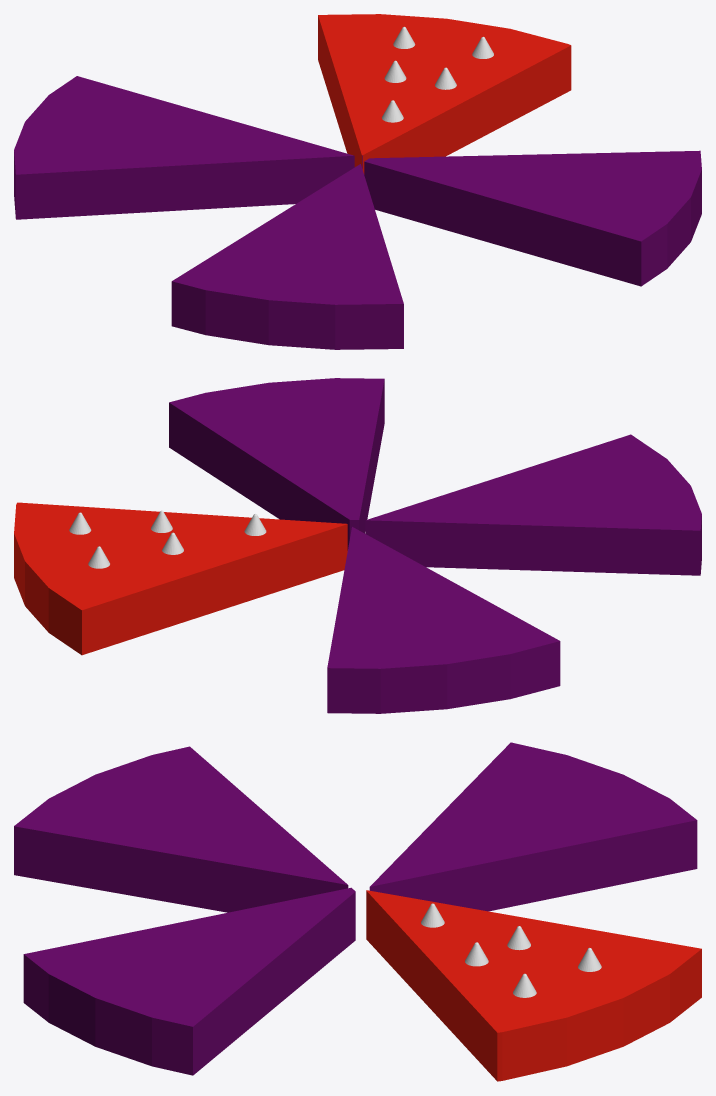
Rendered from cylinderFourspaceSpike.glb.
3 renders of one model, top to bottom at view 1: azimuth 30°, elevation 25°; view 2: azimuth 150°, elevation 25°; view 3: azimuth 270°, elevation 25°, orthographic. The views are drawn at different scales.
Visible parts, largest first — view 1: Cylinder; view 2: Cylinder; view 3: Cylinder.
Boxes of the visible parts, x1,y1,x2,y2 form: Cylinder: [14, 14, 701, 349]; Cylinder: [14, 378, 701, 713]; Cylinder: [14, 742, 701, 1081].
Size of what is drawn, in the model's own units: 1.84 by 0.2008 by 1.84.
